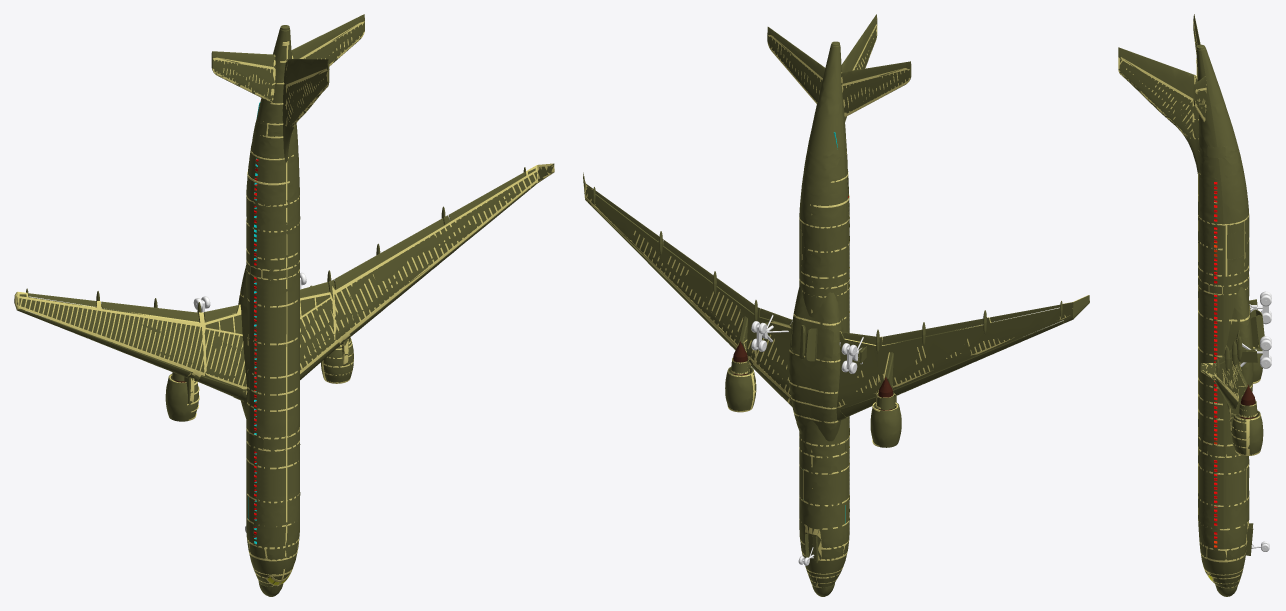
File: A350-900_step.dae
3 renders of one model, left to right at view 1: azimuth 30°, elevation 25°; view 2: azimuth 150°, elevation 25°; view 3: azimuth 270°, elevation 25°, orthographic. The views are drawn at different scales.
Visible parts, largest first — view 1: nodes[519], nodes[520], nodes[529], nodes[522], nodes[534], nodes[532], nodes[526], nodes[445], nodes[525], nodes[12], nodes[22], nodes[535] (+11 smaller); view 2: nodes[519], nodes[529], nodes[522], nodes[474], nodes[520], nodes[526], nodes[445], nodes[22], nodes[525], nodes[532], nodes[469], nodes[20] (+4 smaller); view 3: nodes[519], nodes[529], nodes[12], nodes[445], nodes[13], nodes[474], nodes[468], nodes[540], nodes[10], nodes[520], nodes[11], nodes[18] (+11 smaller).
Part boxes in pixels (left/top/right/bottom): nodes[519]: left=246, top=197, right=300, bottom=527; nodes[520]: left=331, top=168, right=537, bottom=345; nodes[529]: left=246, top=25, right=299, bottom=206; nodes[522]: left=17, top=294, right=204, bottom=380; nodes[534]: left=17, top=291, right=205, bottom=377; nodes[532]: left=332, top=165, right=538, bottom=344; nodes[526]: left=204, top=306, right=247, bottom=401; nodes[445]: left=246, top=518, right=299, bottom=586; nodes[525]: left=300, top=281, right=335, bottom=370; nodes[12]: left=282, top=59, right=329, bottom=162; nodes[22]: left=211, top=51, right=275, bottom=102; nodes[535]: left=201, top=304, right=247, bottom=394; nodes[519]: left=799, top=215, right=849, bottom=529; nodes[529]: left=799, top=41, right=849, bottom=228; nodes[522]: left=878, top=302, right=1073, bottom=396; nodes[474]: left=789, top=284, right=843, bottom=441; nodes[520]: left=585, top=183, right=755, bottom=365; nodes[526]: left=836, top=332, right=880, bottom=420; nodes[445]: left=799, top=519, right=849, bottom=587; nodes[22]: left=841, top=61, right=911, bottom=113; nodes[525]: left=756, top=307, right=792, bottom=406; nodes[532]: left=585, top=183, right=755, bottom=365; nodes[469]: left=870, top=402, right=901, bottom=447; nodes[20]: left=767, top=27, right=822, bottom=102; nodes[519]: left=1198, top=215, right=1249, bottom=530; nodes[529]: left=1196, top=44, right=1248, bottom=225; nodes[12]: left=1118, top=47, right=1198, bottom=173; nodes[445]: left=1198, top=520, right=1248, bottom=587; nodes[13]: left=1120, top=48, right=1194, bottom=98; nodes[474]: left=1226, top=287, right=1253, bottom=413; nodes[468]: left=1232, top=410, right=1263, bottom=455; nodes[540]: left=1118, top=57, right=1198, bottom=139; nodes[10]: left=1226, top=469, right=1246, bottom=504; nodes[520]: left=1214, top=355, right=1238, bottom=409; nodes[11]: left=1227, top=230, right=1244, bottom=259; nodes[18]: left=1240, top=336, right=1271, bottom=368.
Size of the model in its own units: 64194 by 65893 by 16671.
